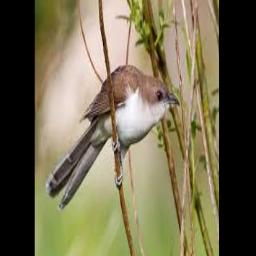Cuckoo: (45, 64, 180, 211)
